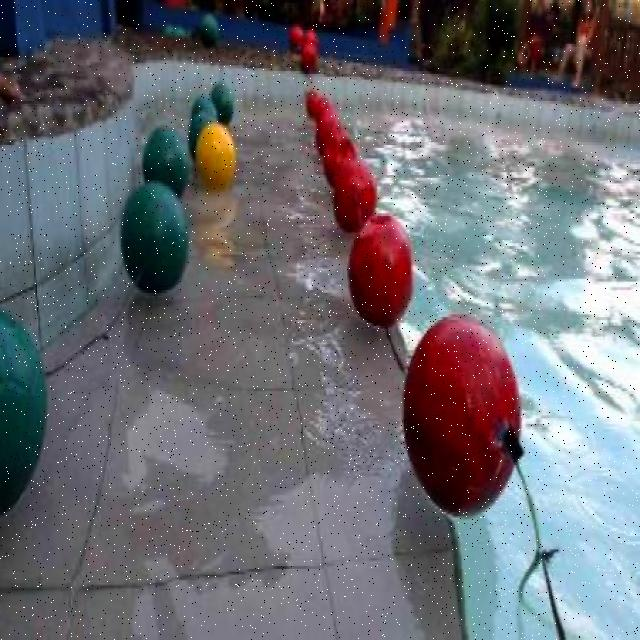buoy: (401, 312, 522, 520), (0, 303, 48, 517), (119, 180, 188, 296), (346, 214, 415, 328), (141, 123, 189, 200), (333, 153, 378, 230), (196, 119, 236, 187), (323, 129, 357, 188), (314, 110, 342, 154), (191, 100, 216, 140), (210, 82, 231, 126)
